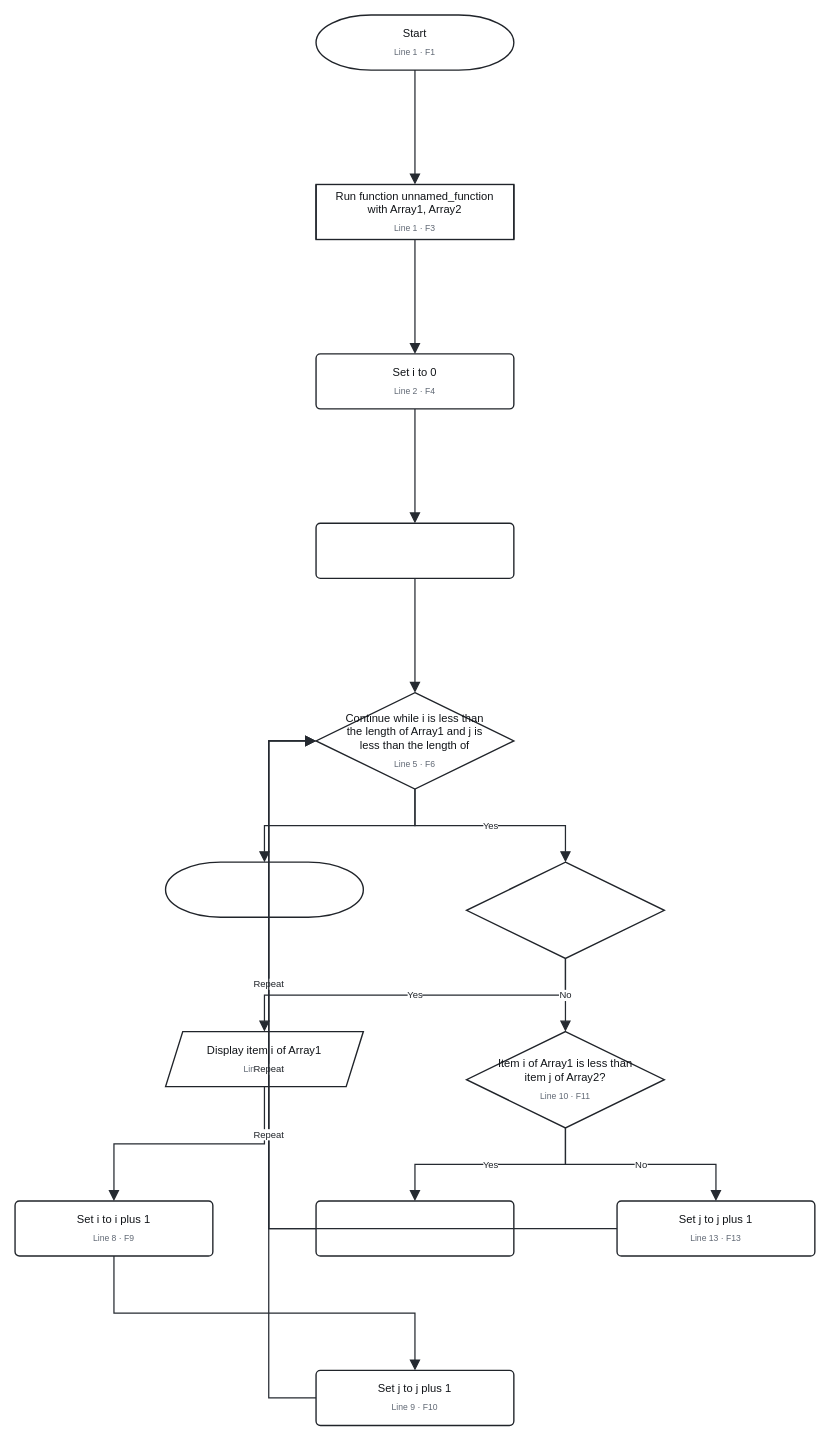
This 831x1441 diagram has some shape labels left out. The centre of each missing label's shape, as x and y in pixels:
End Line 1 · F2: point 264,889
Item i of Array1 is equal to item j of Array2? Line 6 · F7: point 565,910
Set i to i plus 1 Line 11 · F12: point 414,1228
Set j to 0 Line 3 · F5: point 414,550
